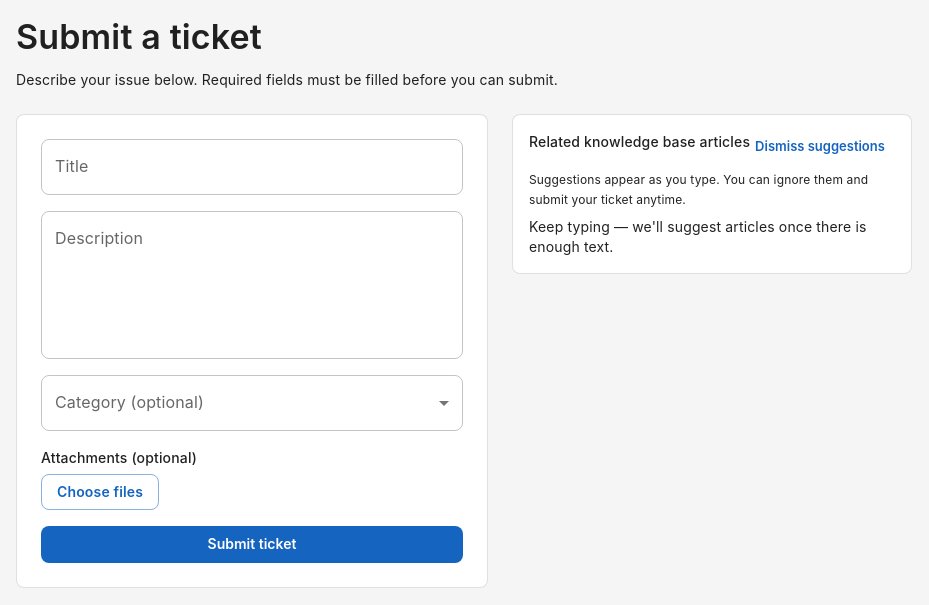
Test: TicketSubmitPage › submits and shows confirmation with ticket number
In the field labelled "Title": (252, 167) [41,139,463,195], type "VPN down"
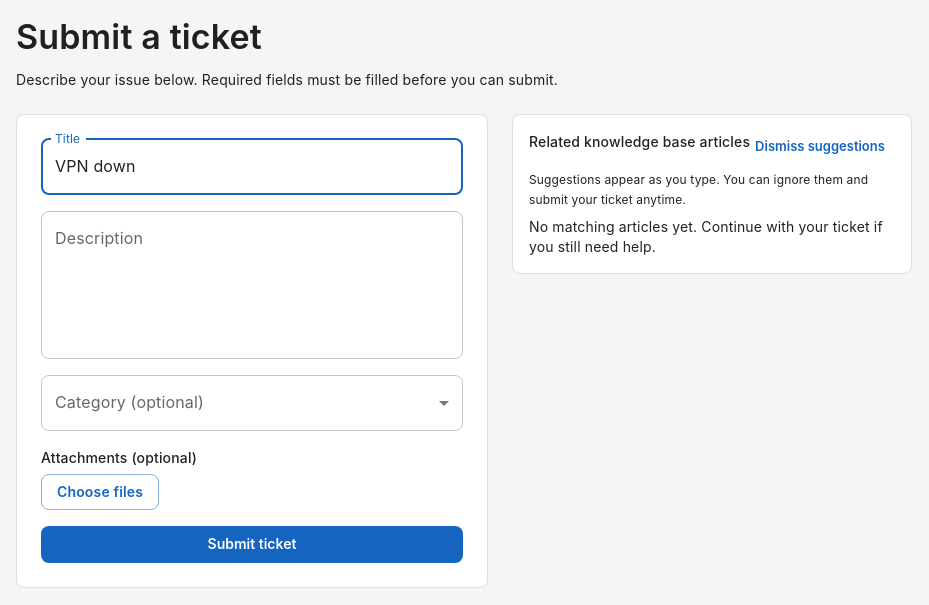
In the text box labelled "Description": (252, 285) [55,227,449,342], type "Cannot connect"
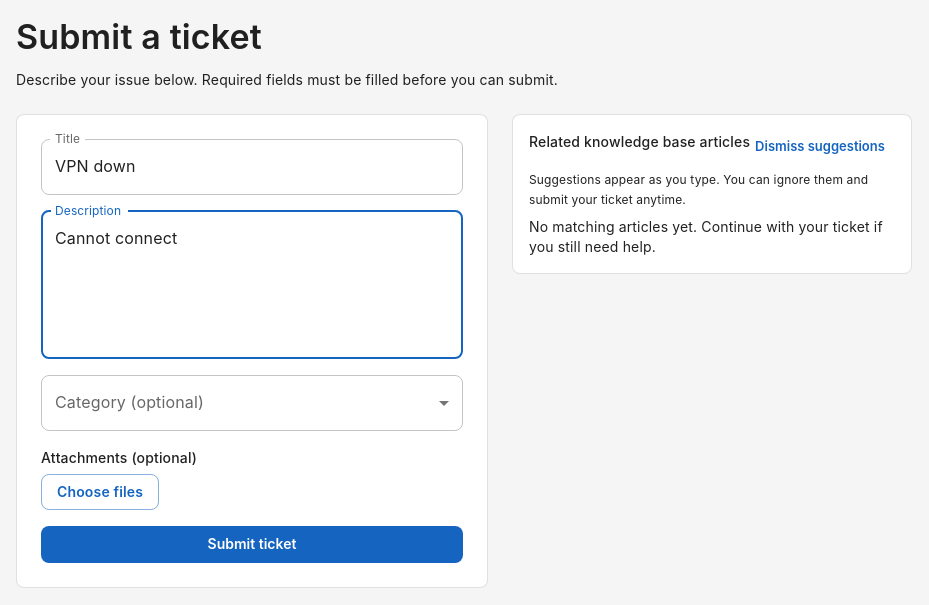
Click the button "Submit ticket": (252, 545) [41,526,463,563]
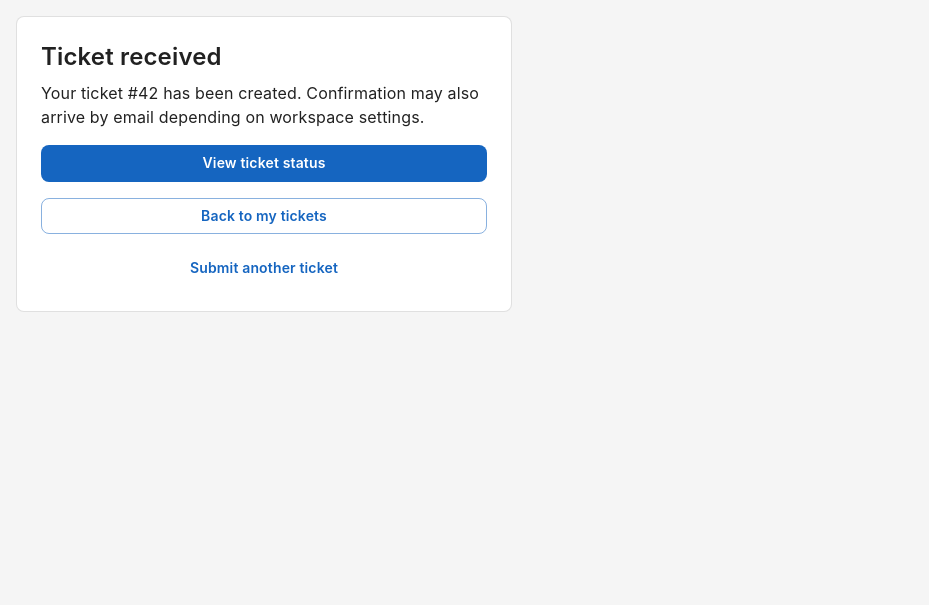
expect the heading "Ticket received" is shown: met, box [41,42,222,71]
expect the text "#42" is shown: met, box [128,83,158,103]
